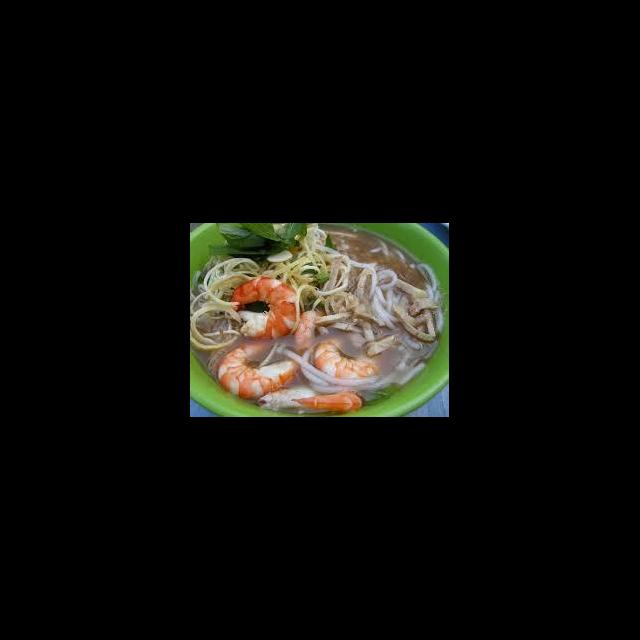bun: (348, 236, 446, 353), (280, 342, 430, 396)
thit heo quay: (390, 301, 440, 342), (362, 327, 407, 359)
tom: (214, 335, 308, 403), (226, 273, 304, 342), (252, 381, 366, 415), (292, 305, 344, 360)
